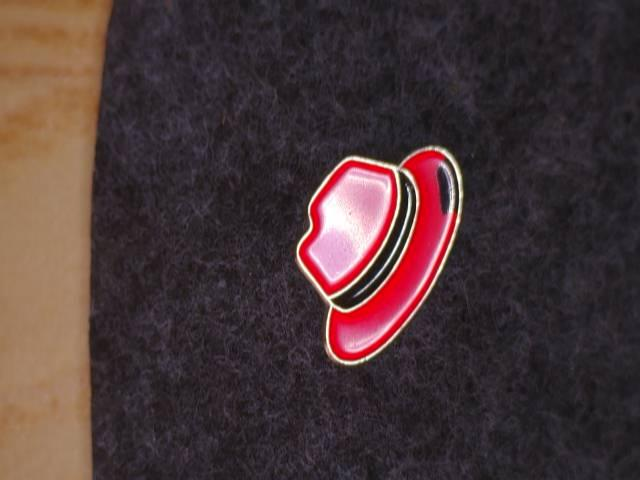Red-Hat: (273, 118, 499, 427)
Scratch: (431, 145, 473, 229)
